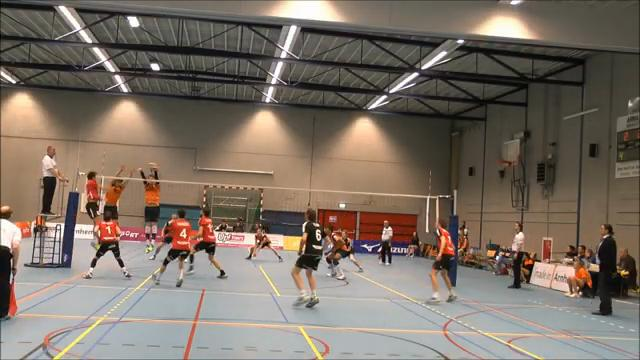attacco: (79, 167, 112, 253)
muro: (138, 155, 163, 260), (103, 158, 134, 241)
